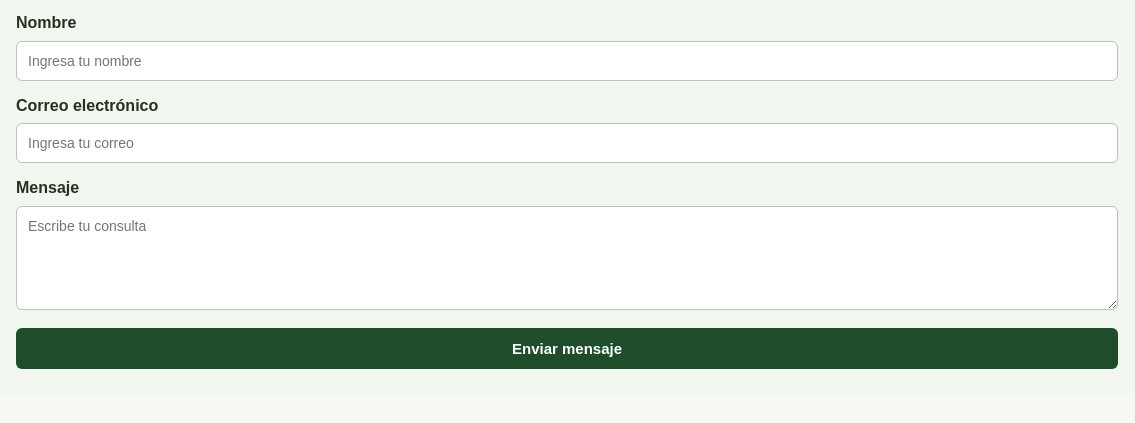
Test case: Formulario de Contacto NutriVida › Muestra error cuando los campos están vacíos
Click the button "Enviar mensaje" at (567, 348), box [16, 328, 1118, 369]
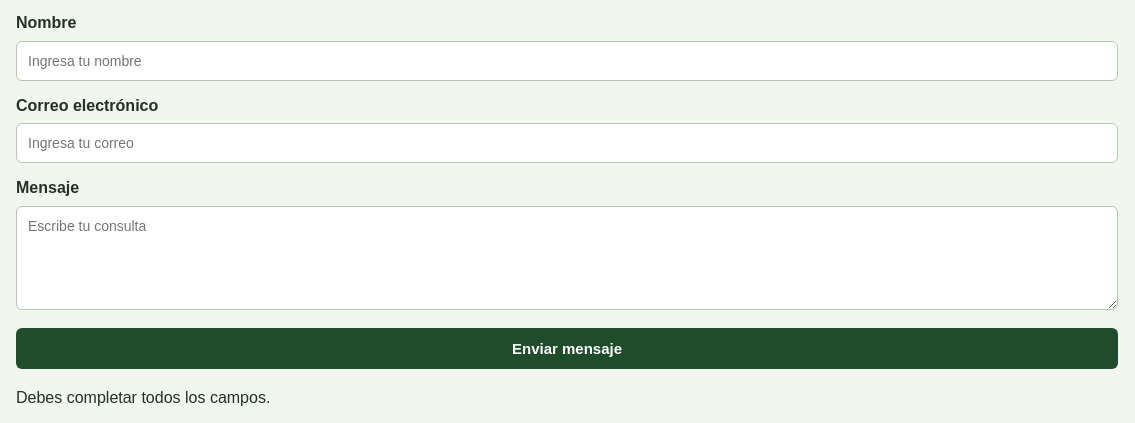
Result: the message reads "Debes completar todos los campos." at [16, 389, 270, 406]
